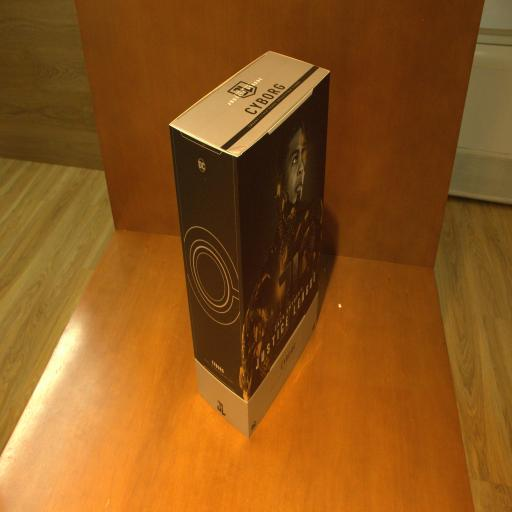Cyborg: (169, 50, 330, 439)
